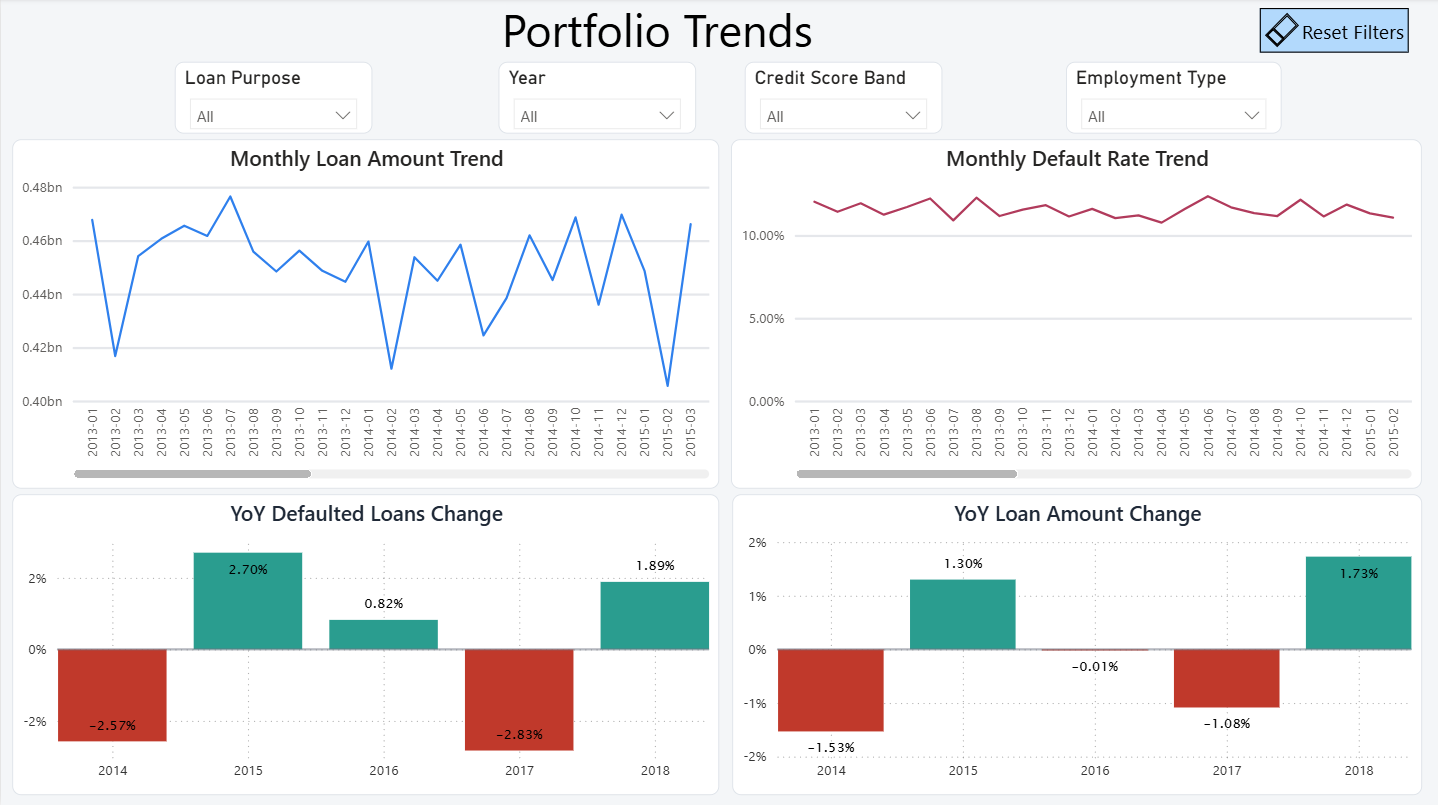

The dashboard page shown, as its layout file describes it:
{"tool":"powerbi","page":{"name":"Portfolio Trends","canvas":[1280,720],"ordinal":3},"visuals":[{"type":"clusteredColumnChart","title":"YoY Defaulted Loans Change","fields":{"Category":["Date Table.Year"],"Y":["_Measures.YOY Default Loans Change"]},"box":[9.7,441.6,629.8,267.8],"z":0},{"type":"clusteredColumnChart","title":"YoY Loan Amount Change","fields":{"Category":["Date Table.Year"],"Y":["_Measures.YOY Loan Amount Change"]},"box":[651.5,441.6,614.1,267.8],"z":1000},{"type":"slicer","title":"Year","fields":{"Values":["Date Table.Year"]},"box":[442.9,57,176,64],"z":2000},{"type":"slicer","title":"Employment Type","fields":{"Values":["Loan_default.EmploymentType"]},"box":[948.5,57,191.8,63.9],"z":3000},{"type":"slicer","title":"Loan Purpose","fields":{"Values":["Loan_default.LoanPurpose"]},"box":[154.9,57,176,64],"z":4000},{"type":"slicer","title":"Credit Score Band","fields":{"Values":["Loan_default.Credit Score Bins"]},"box":[662.6,57,176.1,63.9],"z":5000},{"type":"actionButton","box":[1120.8,8.4,132.7,39.8],"z":6000},{"type":"shape","title":"Portfolio Trends","box":[57.9,0,1053.2,53.1],"z":7000},{"type":"lineChart","title":"Monthly Loan Amount Trend","fields":{"Category":["Date Table.Year Month"],"Y":["_Measures.Total Loan Amount"]},"box":[9.7,125.5,629.8,311.3],"z":8000},{"type":"lineChart","title":"Monthly Default Rate Trend","fields":{"Category":["Date Table.Year Month"],"Y":["_Measures.Default Rate %"]},"box":[650.3,125.5,615.3,311.3],"z":9000}]}

Visuals, with their boxes in screenshot pixels (x1, y1, x2, y2), scaled from the page's 1280x720 canvas onto the 1438x805 screenshot:
"YoY Defaulted Loans Change" clusteredColumnChart: pyautogui.locateOnScreen(11, 494, 718, 793)
"YoY Loan Amount Change" clusteredColumnChart: pyautogui.locateOnScreen(732, 494, 1422, 793)
"Year" slicer: pyautogui.locateOnScreen(498, 64, 695, 135)
"Employment Type" slicer: pyautogui.locateOnScreen(1066, 64, 1281, 135)
"Loan Purpose" slicer: pyautogui.locateOnScreen(174, 64, 372, 135)
"Credit Score Band" slicer: pyautogui.locateOnScreen(744, 64, 942, 135)
actionButton: pyautogui.locateOnScreen(1259, 9, 1408, 54)
"Portfolio Trends" shape: pyautogui.locateOnScreen(65, 0, 1248, 59)
"Monthly Loan Amount Trend" lineChart: pyautogui.locateOnScreen(11, 140, 718, 488)
"Monthly Default Rate Trend" lineChart: pyautogui.locateOnScreen(731, 140, 1422, 488)
